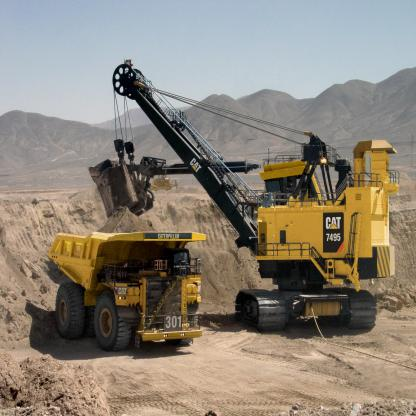dump_truck: (40, 221, 222, 382)
excavator: (77, 56, 416, 342)
